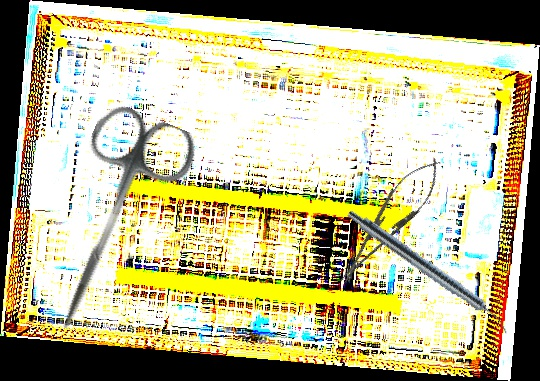Handpiece: (341, 206, 517, 336)
Iris Scissors: (21, 98, 203, 350)
Needle Holder: (327, 148, 452, 294)
